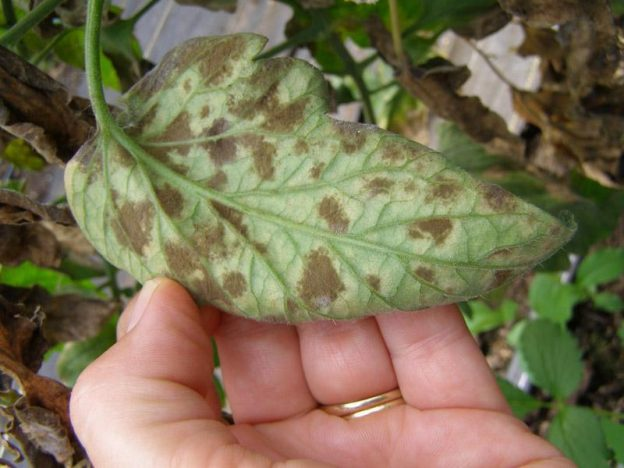Cladosporium: (130, 54, 306, 134), (297, 251, 351, 320), (103, 196, 159, 254)
